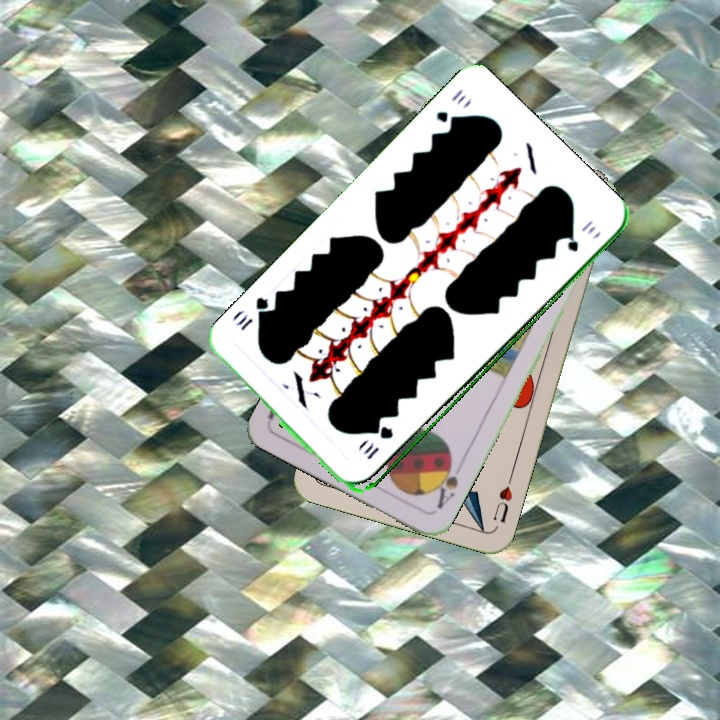G10: (432, 85, 468, 130), (360, 423, 396, 463)
HU: (488, 472, 515, 525)
SA: (429, 454, 466, 512)
